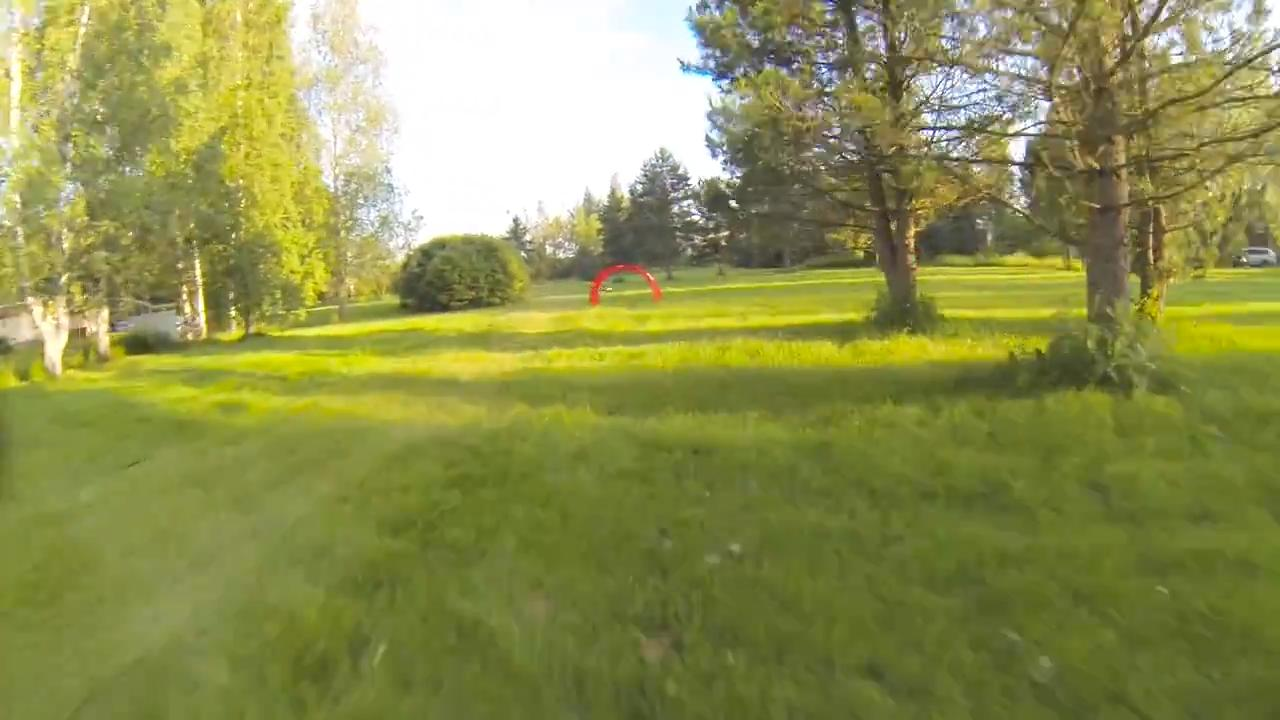gate: (591, 260, 665, 310)
